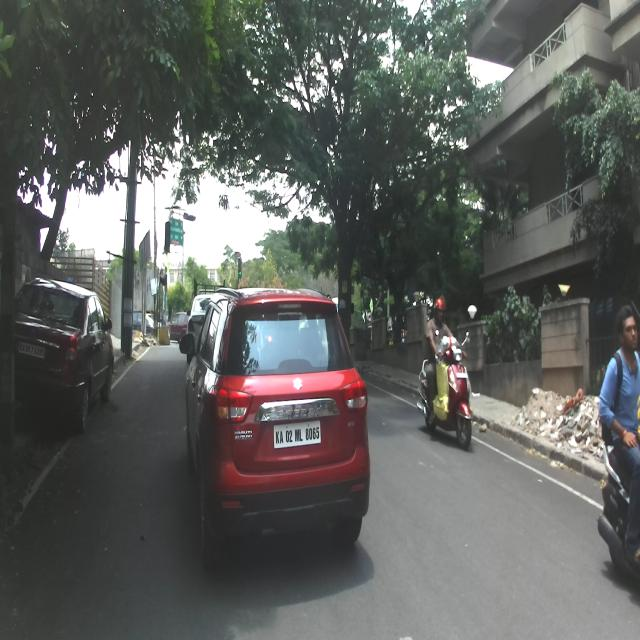car ahead at: (178, 285, 375, 576), (17, 269, 120, 448)
motorcycle ahead at: (418, 330, 478, 449)
